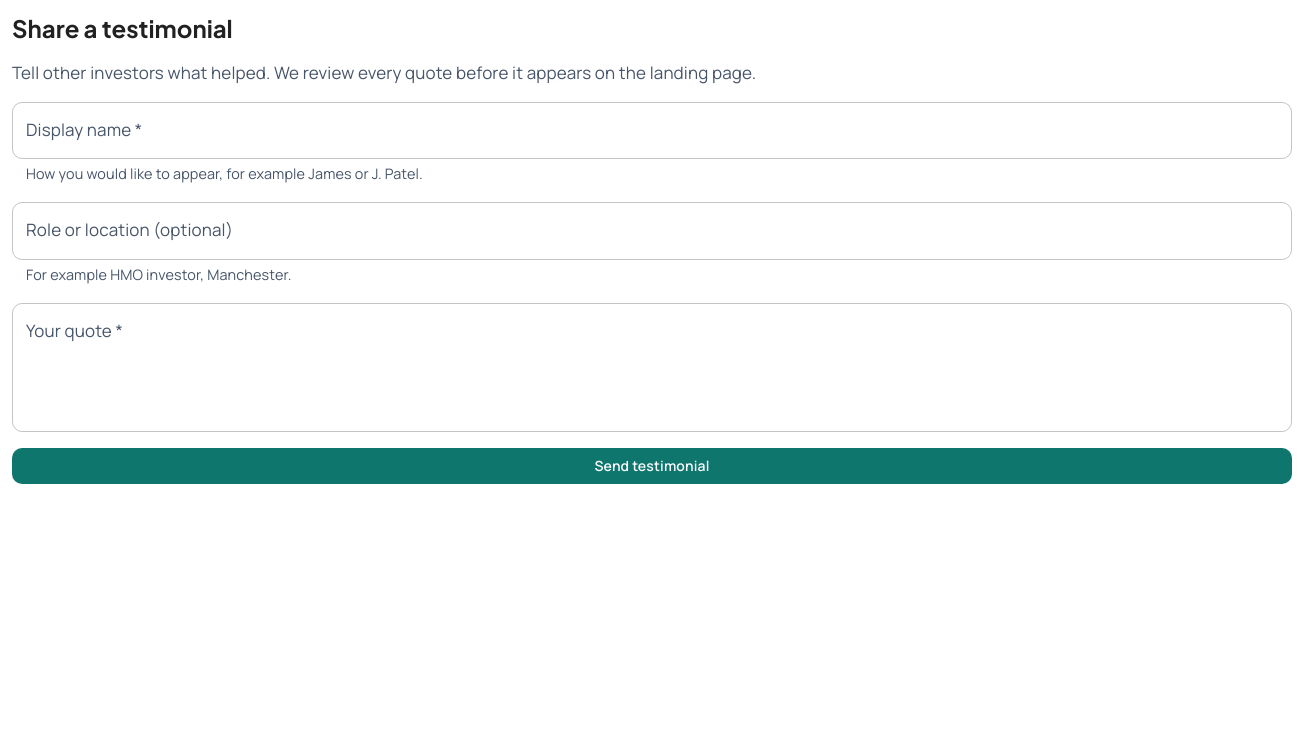
it: TestimonialForm › validates the display name and quote before submitting
This screenshot has width=1304, height=732.
Type "J" into the field labelled "Display name *". click: (652, 131)
box: [12,102,1292,159]
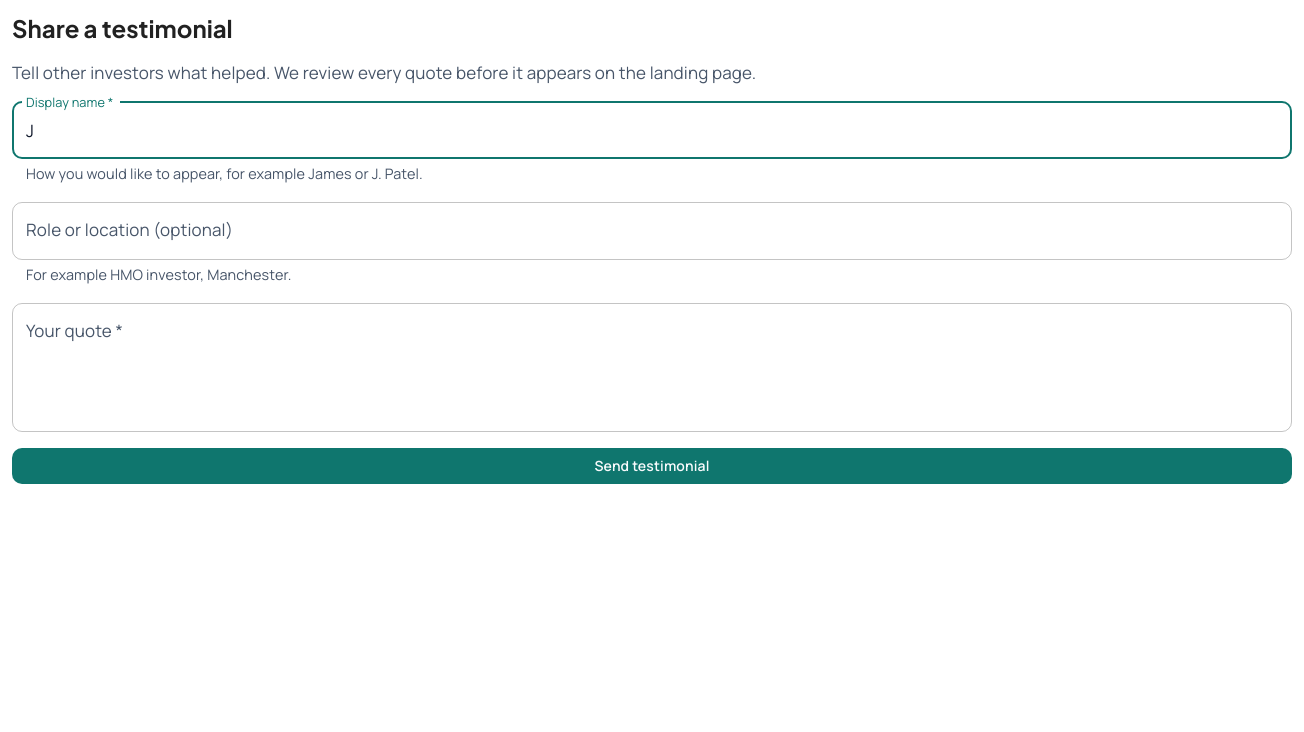
Type "Too short" into the text box labelled "Your quote *". click: (652, 367)
box: [26,319,1278,415]
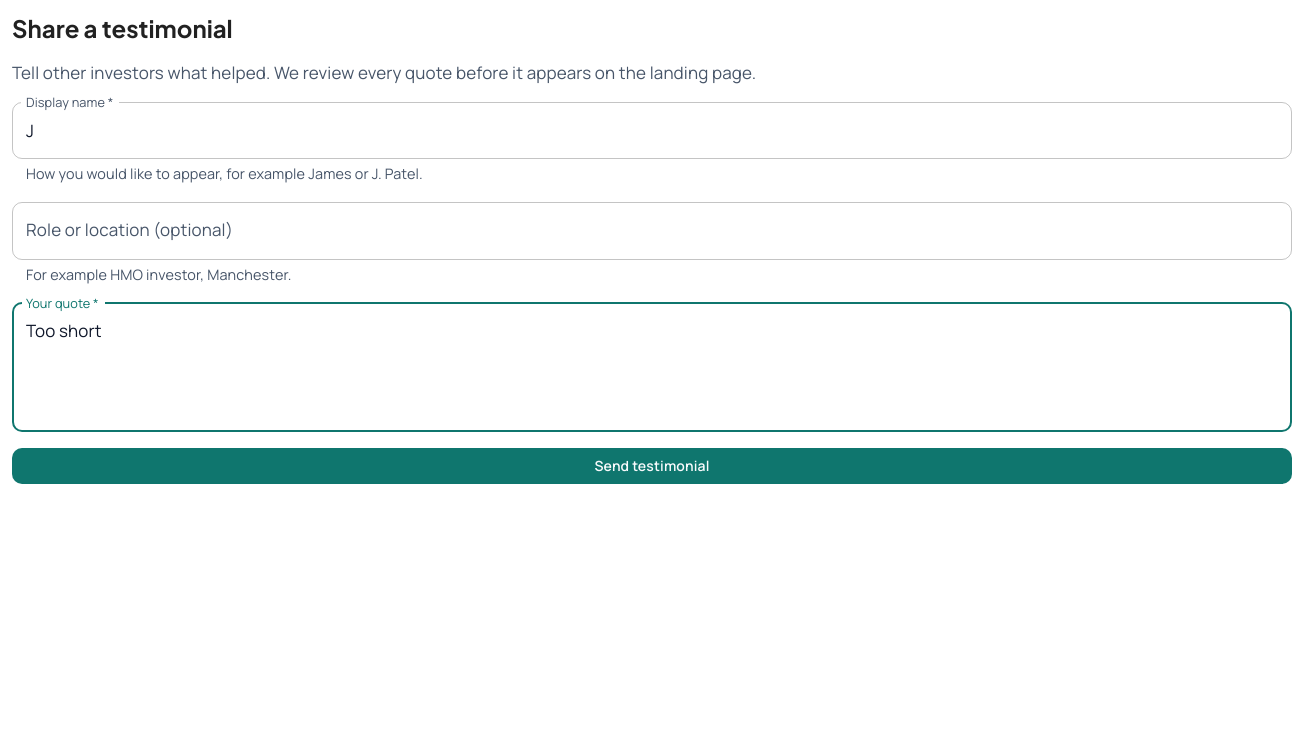
Click the button "Send testimonial". click: click(652, 466)
box: [12,448,1292,484]
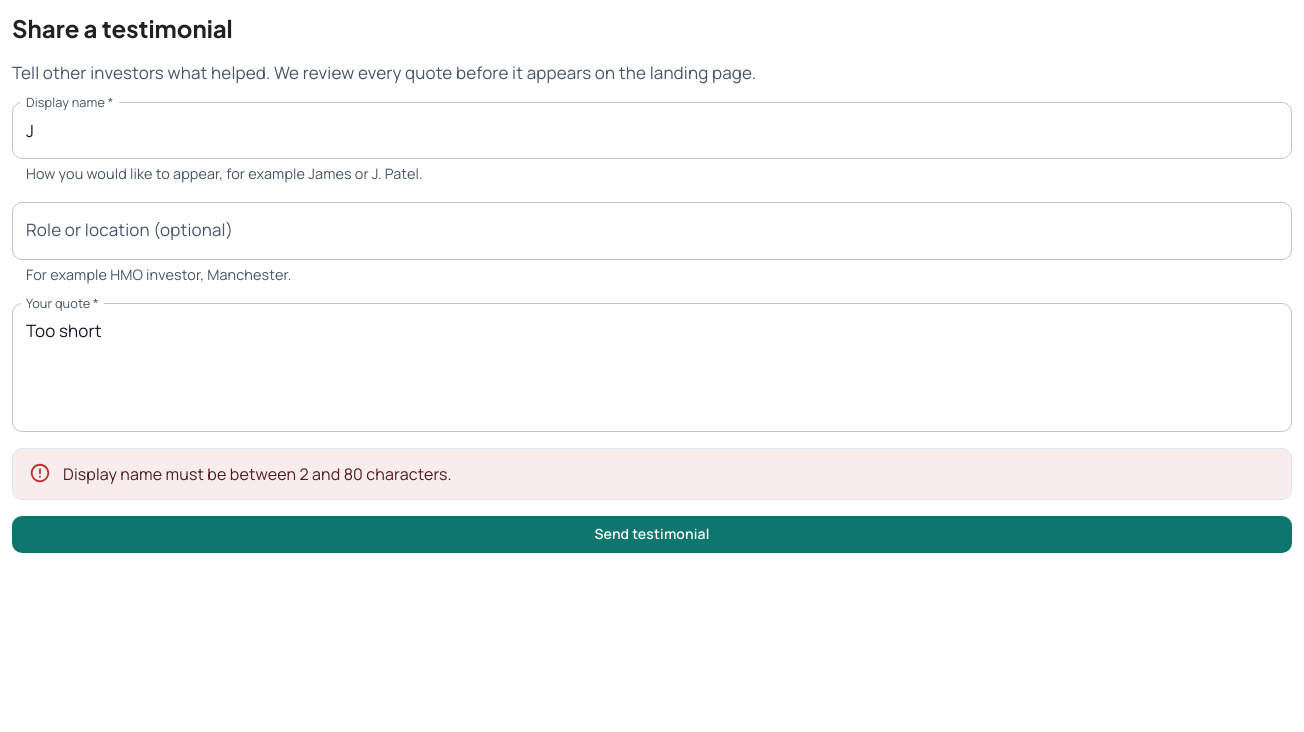
Result: the text "Display name must be between 2 and 80 characters." is shown at [63,463,452,485]
